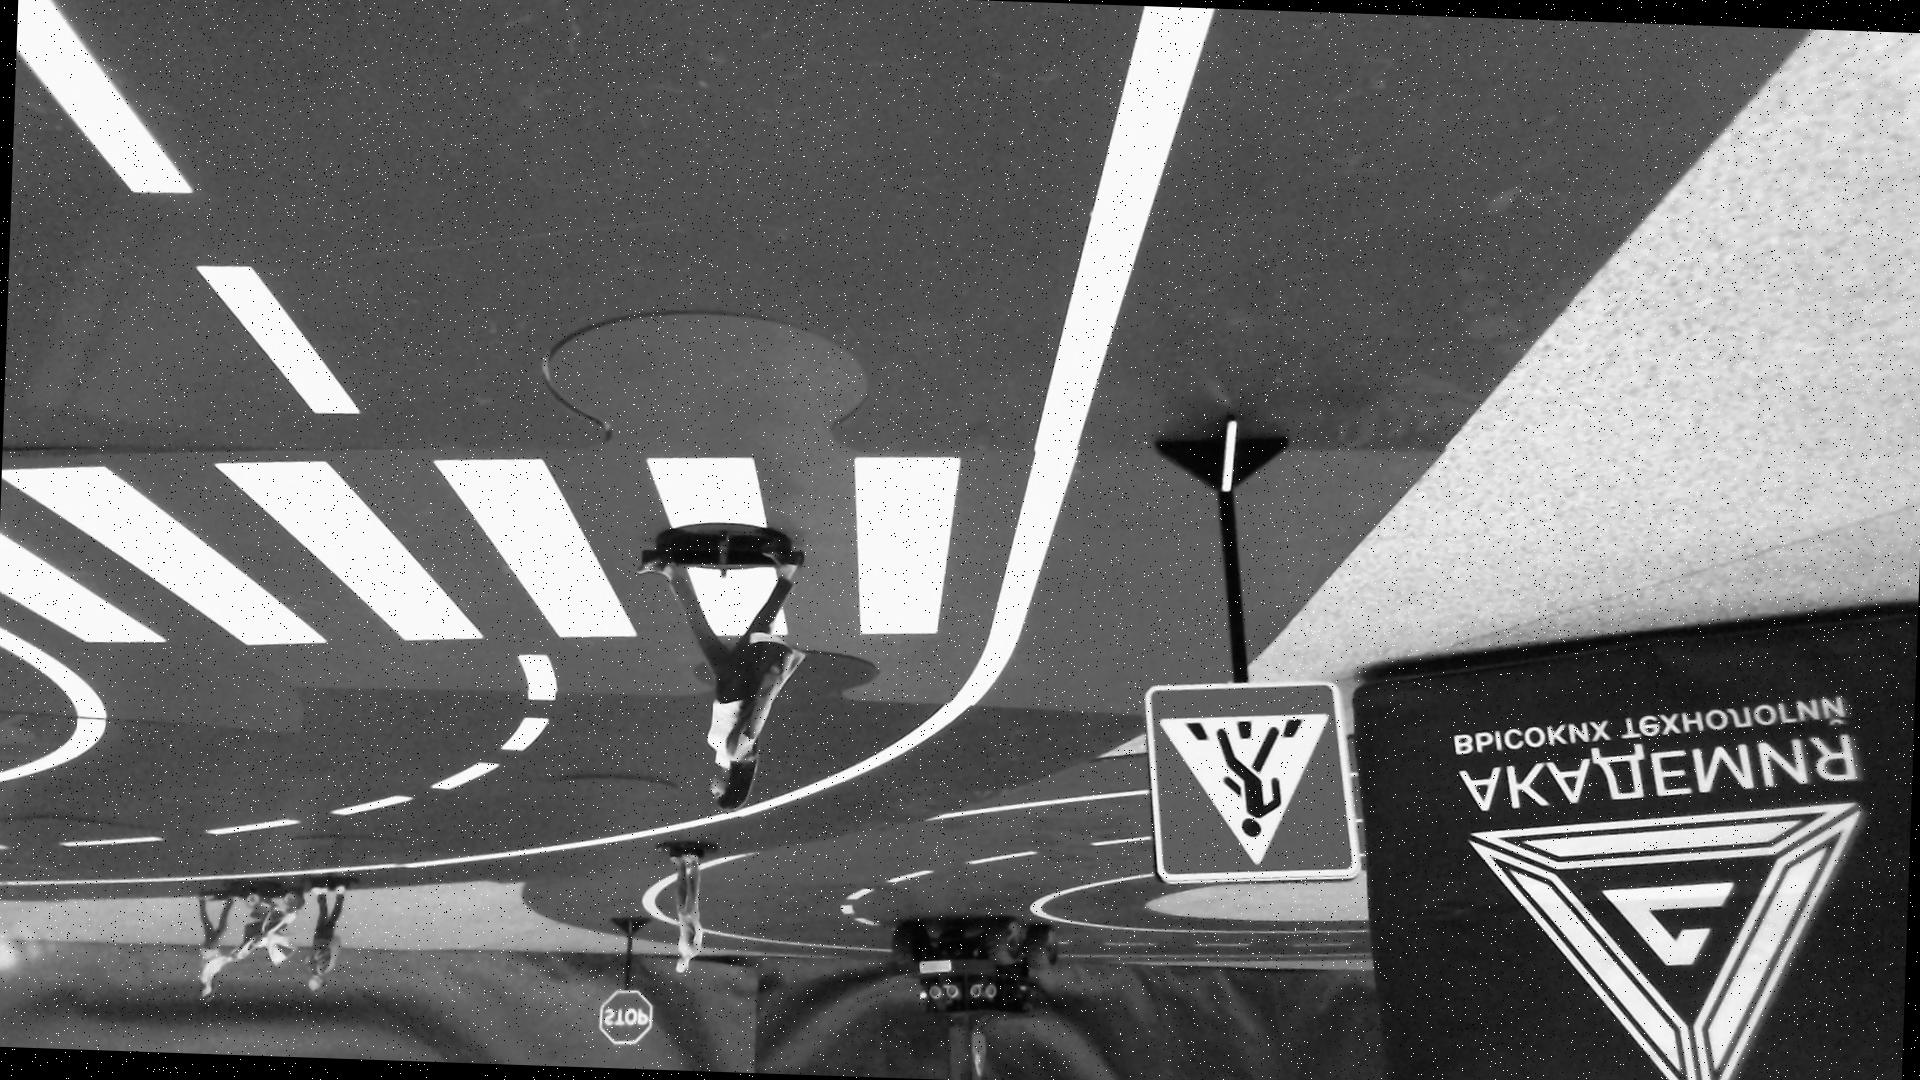crossing: (0, 398, 1039, 702)
person: (624, 518, 808, 822), (186, 878, 300, 1007), (656, 840, 716, 985), (304, 879, 351, 999)
